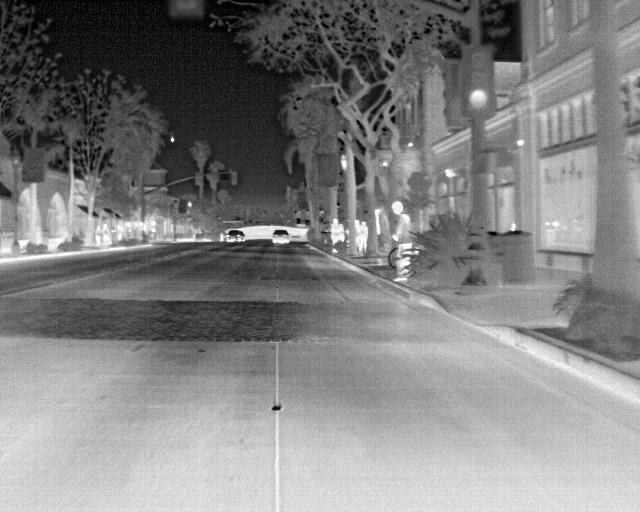bicycle: (269, 227, 291, 244), (225, 228, 244, 245)
empty: (387, 196, 411, 281), (356, 221, 369, 254), (330, 217, 342, 244), (99, 222, 113, 242), (92, 223, 104, 243)
